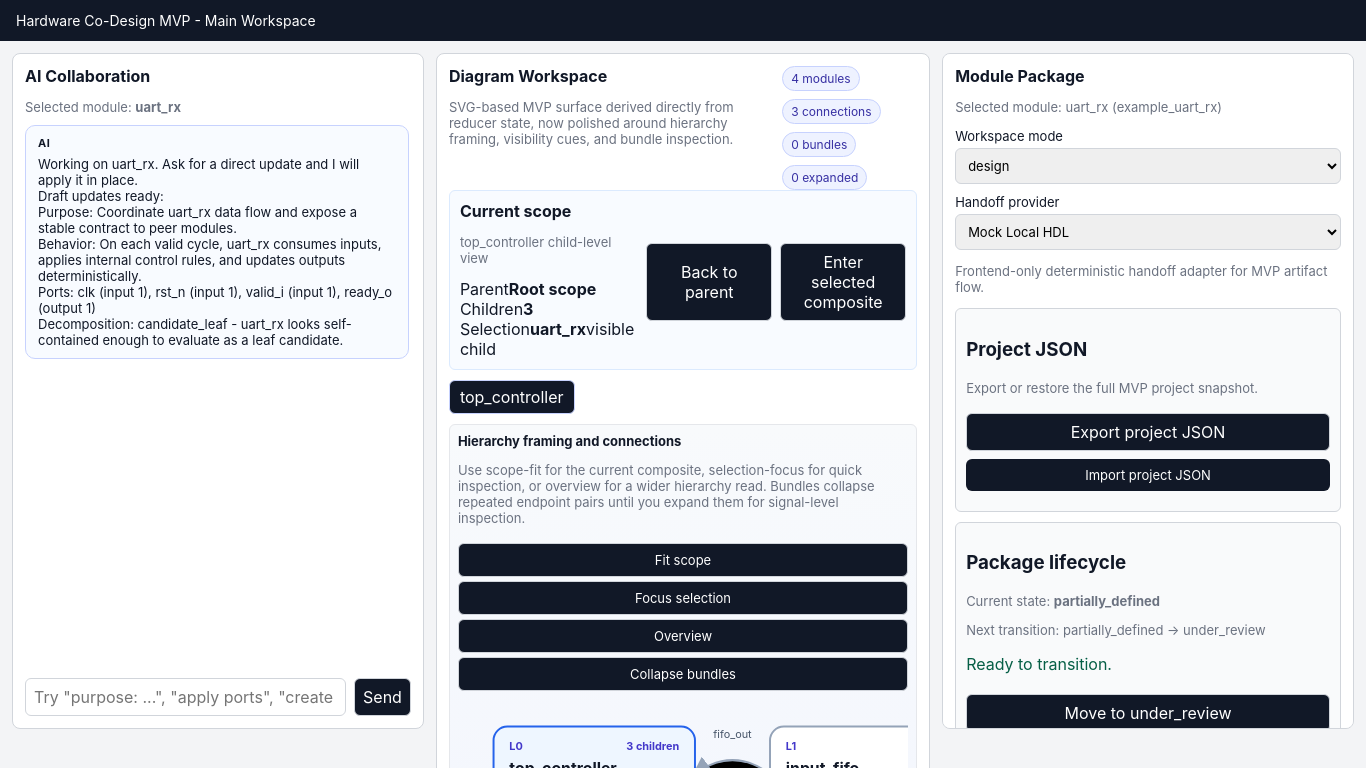
Test: App workspace › applies a suggestion through the chat composer
Replace the text in the field named "Design chat" with "apply behavior". click: (186, 697)
box: [25,678,346,716]
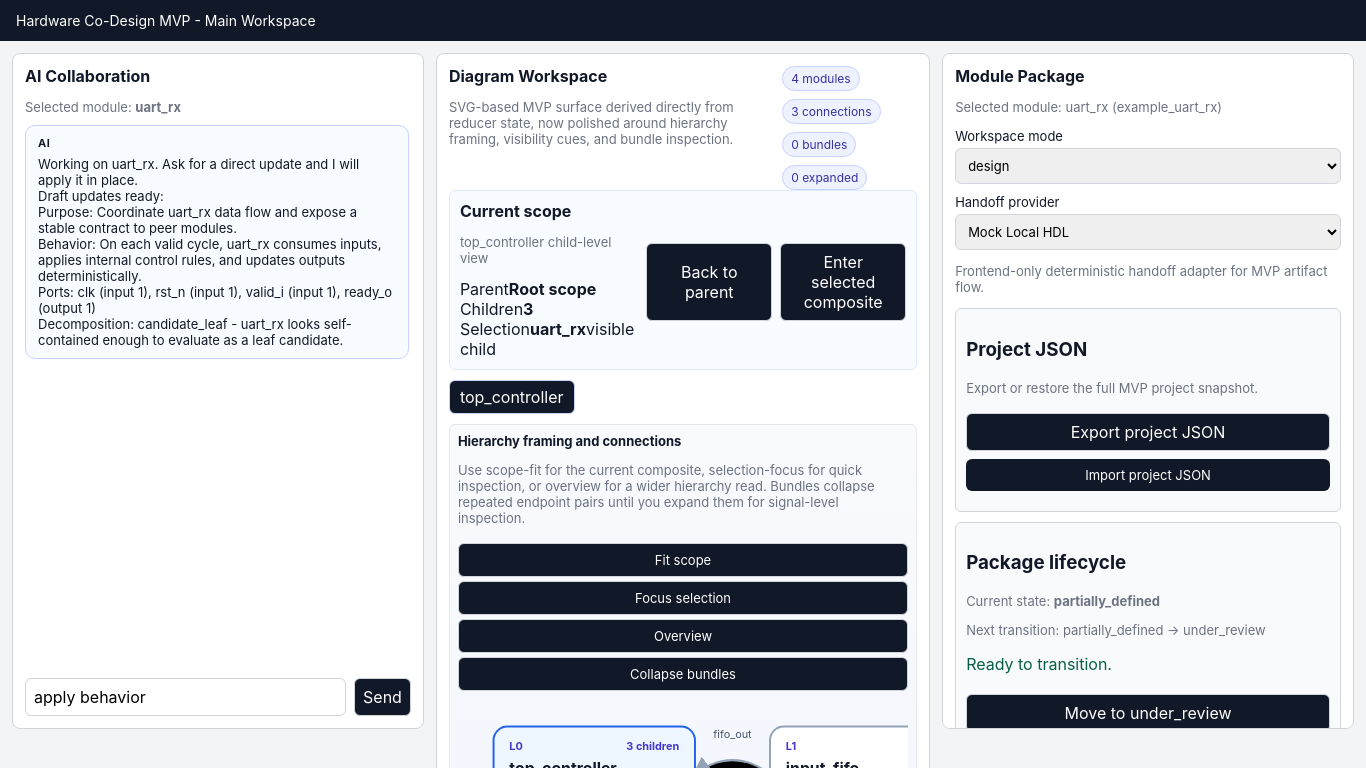
Click the button "Send". click: (382, 697)
box: [354,678,411,716]
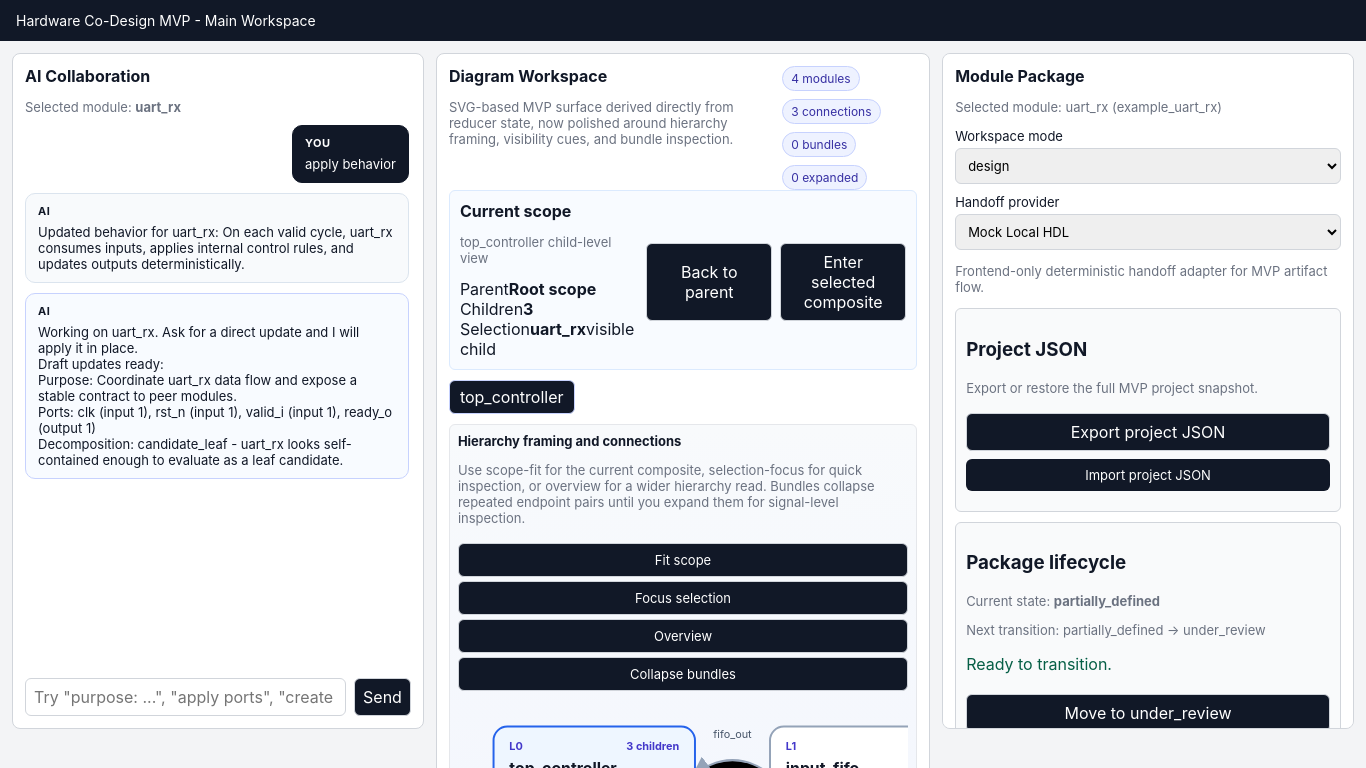
Now the element named "AI chat transcript" shows "Updated behavior for uart_rx", box [38,224,396,272]
